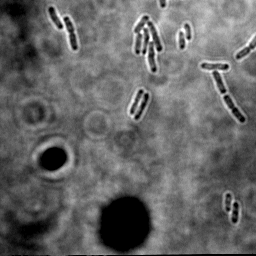Dividing: (221, 93, 247, 124), (64, 15, 79, 52), (128, 88, 145, 117)
Microcolony: (133, 14, 164, 73)
Rod: (133, 92, 151, 122), (45, 5, 65, 30), (212, 69, 228, 95), (200, 60, 230, 72), (230, 201, 241, 225), (223, 191, 233, 214), (183, 22, 194, 40), (177, 29, 186, 51)
